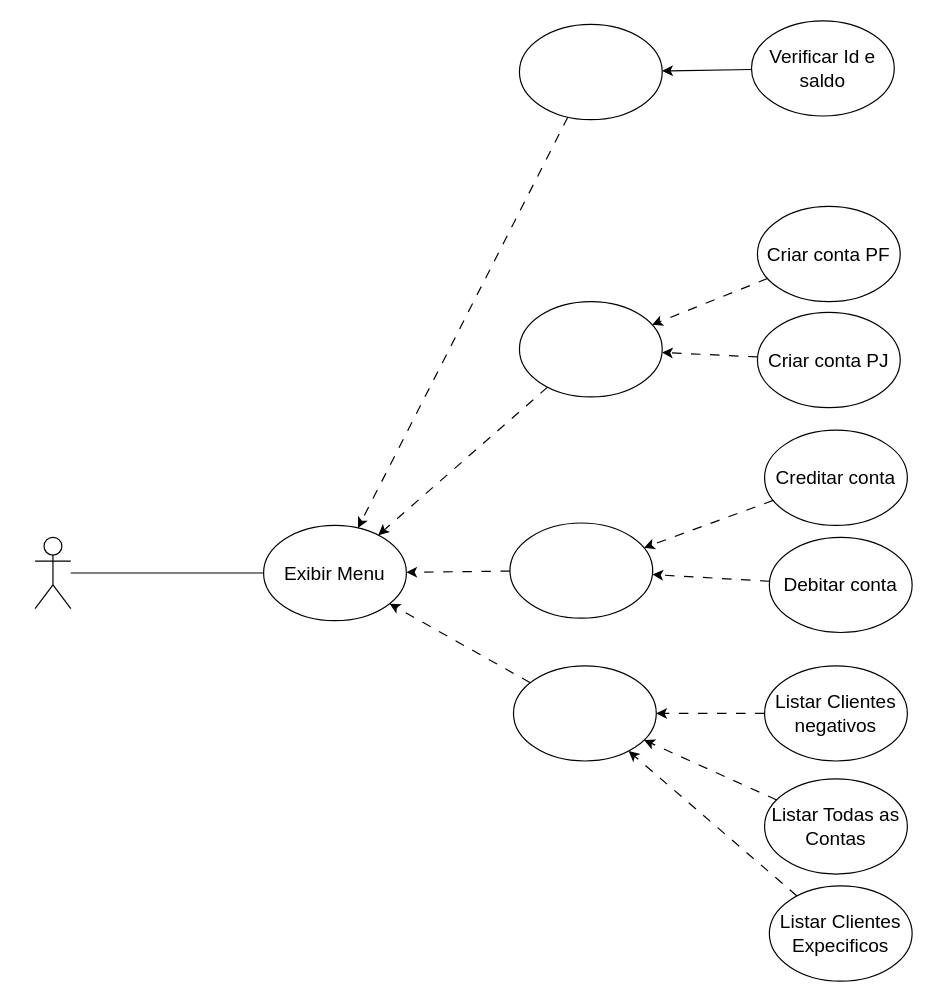
Some shapes in this 933 by 1002 pixel diagram are drawn without their labels. Each missing label, with the centre of its shape:
Alterar Saldo: pixel 581 570
Criar Conta: pixel 590 348
Excluir Conta: pixel 590 71
Mostrar Relatorios: pixel 584 713
Usuario: pixel 52 572
